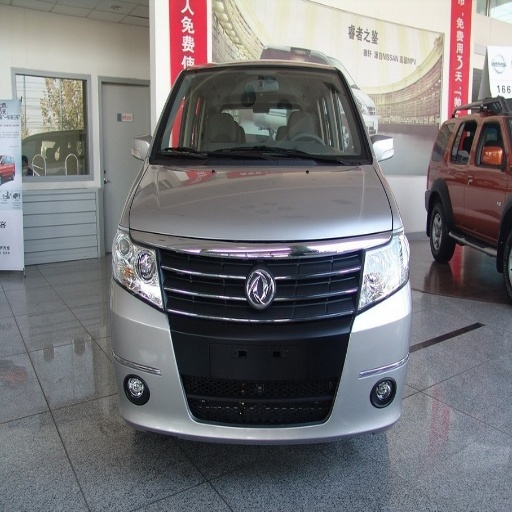front_bumper: (102, 231, 406, 445)
front_right_light: (111, 225, 162, 306)
hood: (129, 163, 392, 239)
